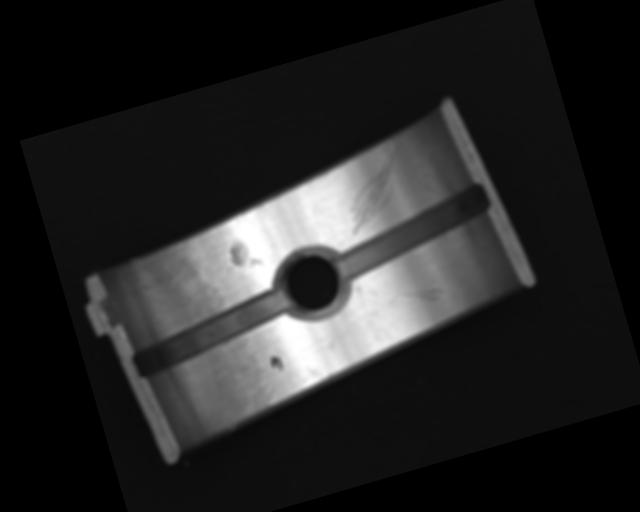blot: (268, 353, 284, 374)
bruise: (225, 236, 263, 273)
gap: (326, 183, 498, 282), (124, 289, 297, 380)
hole: (272, 242, 353, 327)
nick: (331, 143, 419, 236), (389, 281, 445, 312)
